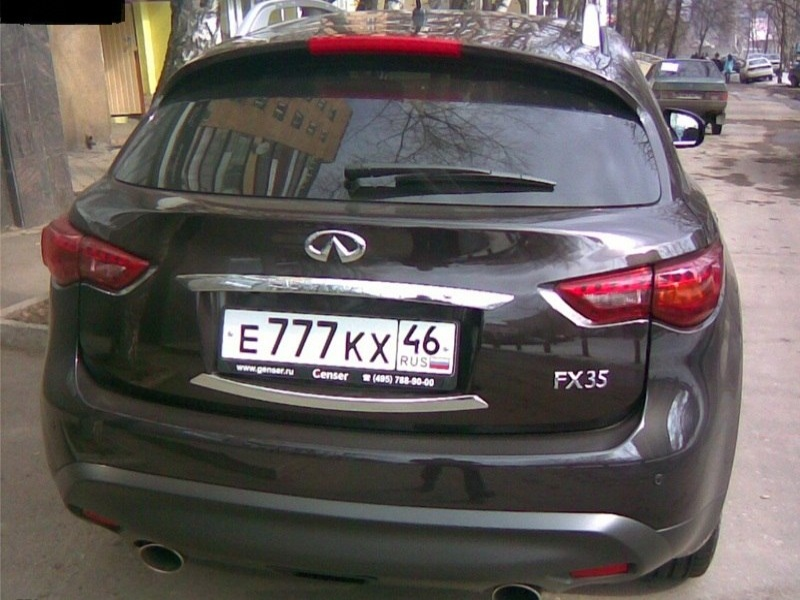car: (42, 9, 744, 600), (645, 59, 728, 134), (740, 58, 772, 82)
plate: (220, 309, 455, 375)
